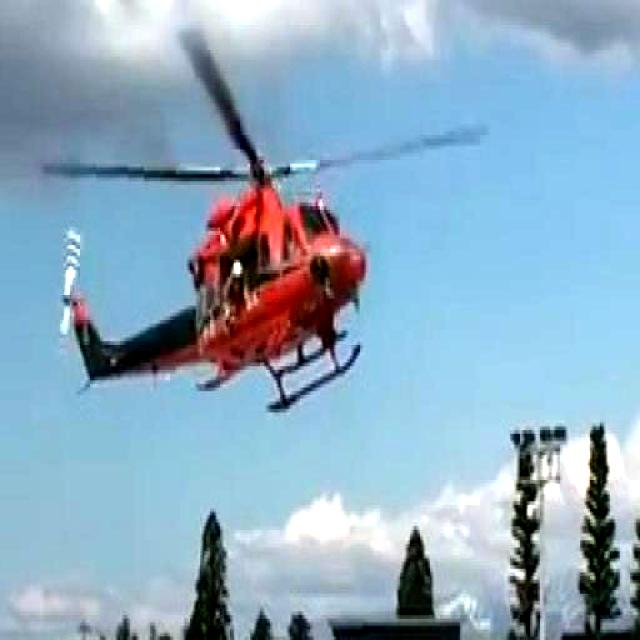drone: (49, 25, 481, 415)
